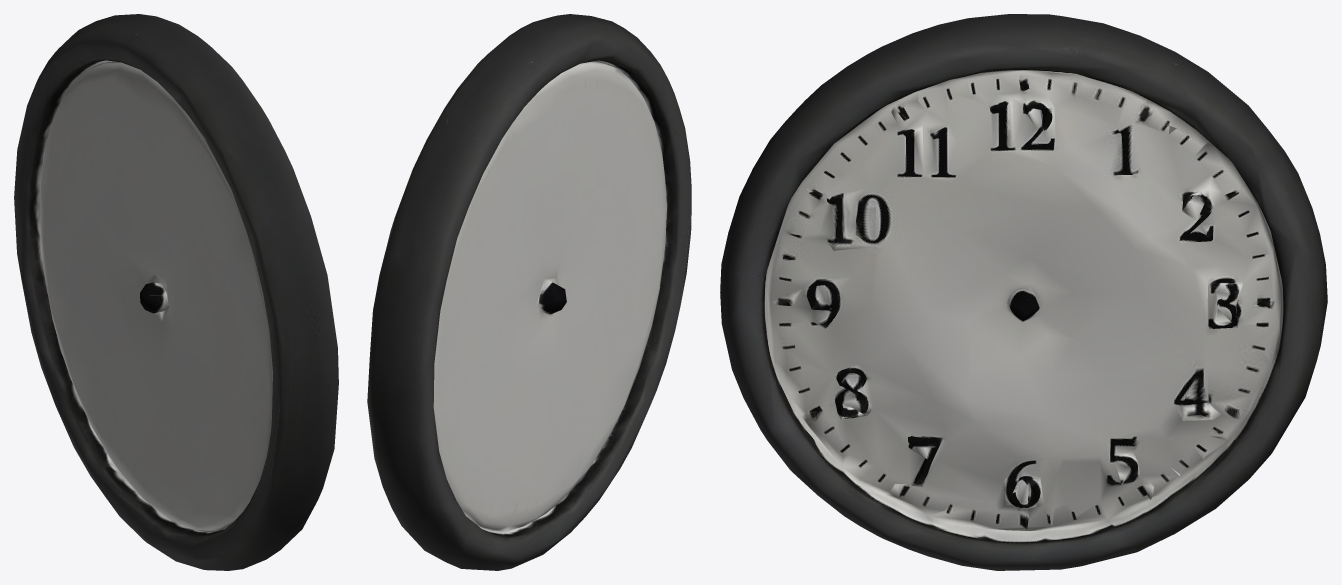
File: wall_clock_body.glb
3 renders of one model, left to right at view 1: azimuth 30°, elevation 25°; view 2: azimuth 150°, elevation 25°; view 3: azimuth 270°, elevation 25°, orthographic. The views are drawn at different scales.
Visible parts, largest first — view 1: tripo_node_acd475e9-20e8-469e-9005-c6570c8be6da; view 2: tripo_node_acd475e9-20e8-469e-9005-c6570c8be6da; view 3: tripo_node_acd475e9-20e8-469e-9005-c6570c8be6da.
Boxes of the visible parts, x1,y1,x2,y2 form: tripo_node_acd475e9-20e8-469e-9005-c6570c8be6da: (14, 14, 338, 570); tripo_node_acd475e9-20e8-469e-9005-c6570c8be6da: (367, 14, 691, 570); tripo_node_acd475e9-20e8-469e-9005-c6570c8be6da: (720, 14, 1327, 570).
Size of the model in its own units: 0.1515 by 0.9947 by 1.
Materials: 1 (1 with a texture image).
